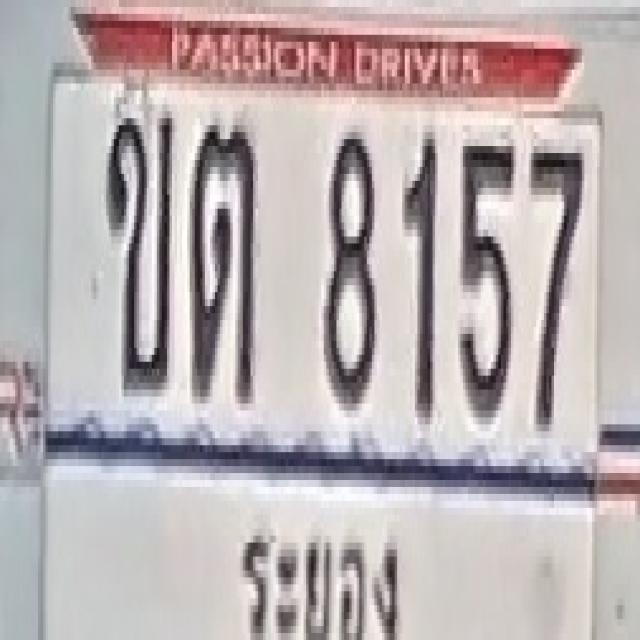1: (404, 129, 436, 414)
5: (458, 136, 513, 414)
7: (530, 142, 583, 421)
8: (324, 122, 374, 400)
A02: (105, 108, 173, 386)
A21: (190, 115, 256, 393)
RYG: (228, 492, 415, 640)
